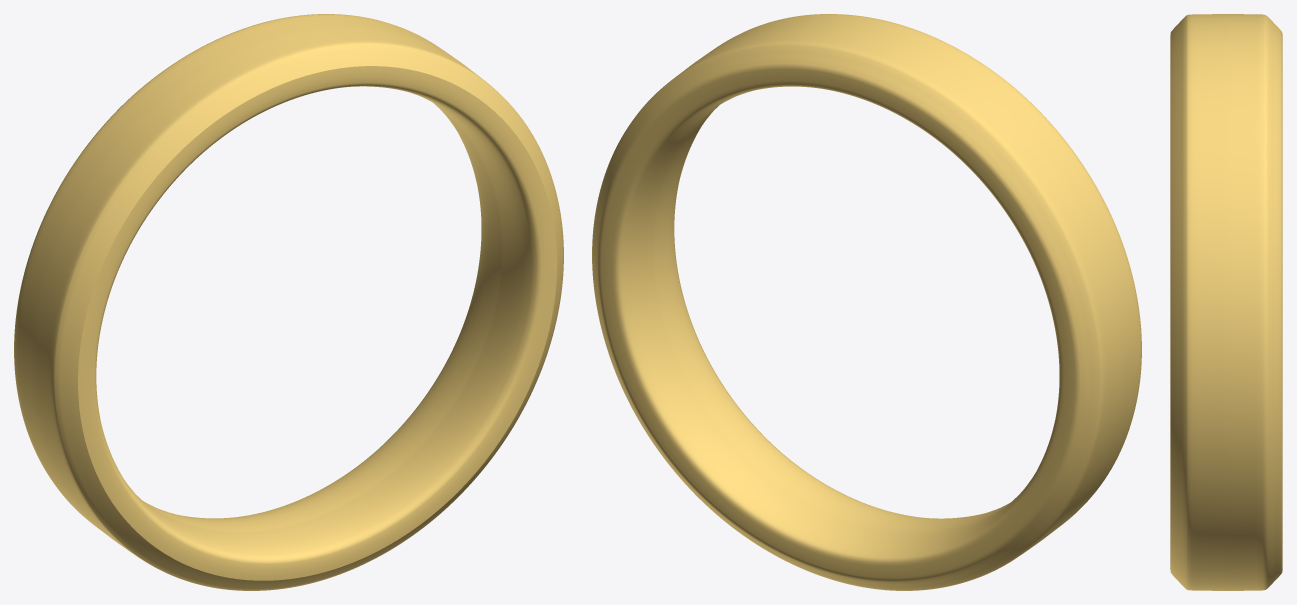
Rendered from MikeBeveledv4.glb.
The picture shows the model from 3 angles, left to right: view 1: azimuth 30°, elevation 25°; view 2: azimuth 150°, elevation 25°; view 3: azimuth 270°, elevation 25°; orthographic projection. The views are drawn at different scales.
Parts seen in each view (by area): view 1: v4 Mike YG for 3d model; view 2: v4 Mike YG for 3d model; view 3: v4 Mike YG for 3d model.
Boxes of the visible parts, box(x1,y1,x2,y2) form: v4 Mike YG for 3d model: box(14, 14, 563, 590); v4 Mike YG for 3d model: box(592, 14, 1141, 590); v4 Mike YG for 3d model: box(1170, 14, 1282, 590).
Bounding box in the file's own units: 20.52 × 20.52 × 4.
